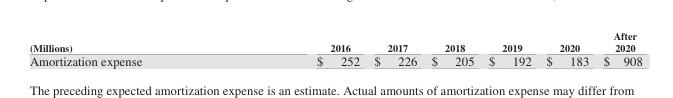table: (28, 29, 641, 67)
table column: (28, 29, 228, 67), (228, 29, 366, 67), (480, 29, 538, 67), (366, 29, 423, 67), (423, 29, 480, 67), (538, 29, 595, 67), (595, 29, 641, 67)
table column header: (28, 29, 641, 52)
table row: (28, 29, 641, 52), (28, 52, 641, 67)
